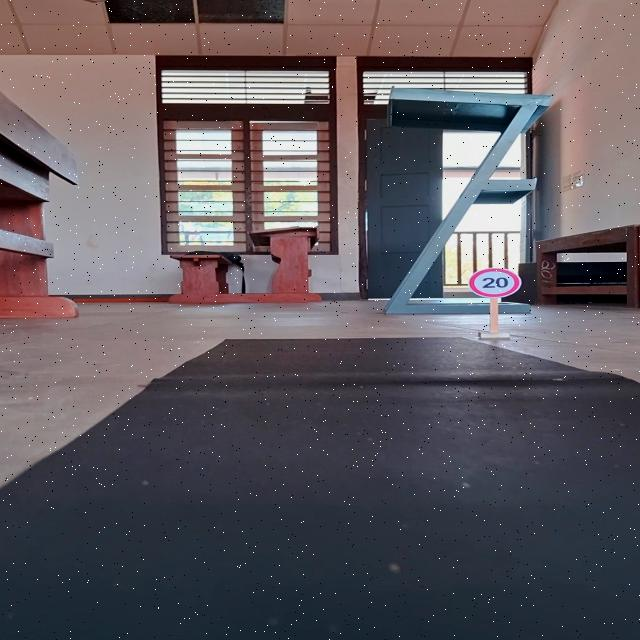Speed20: (464, 264, 526, 300)
